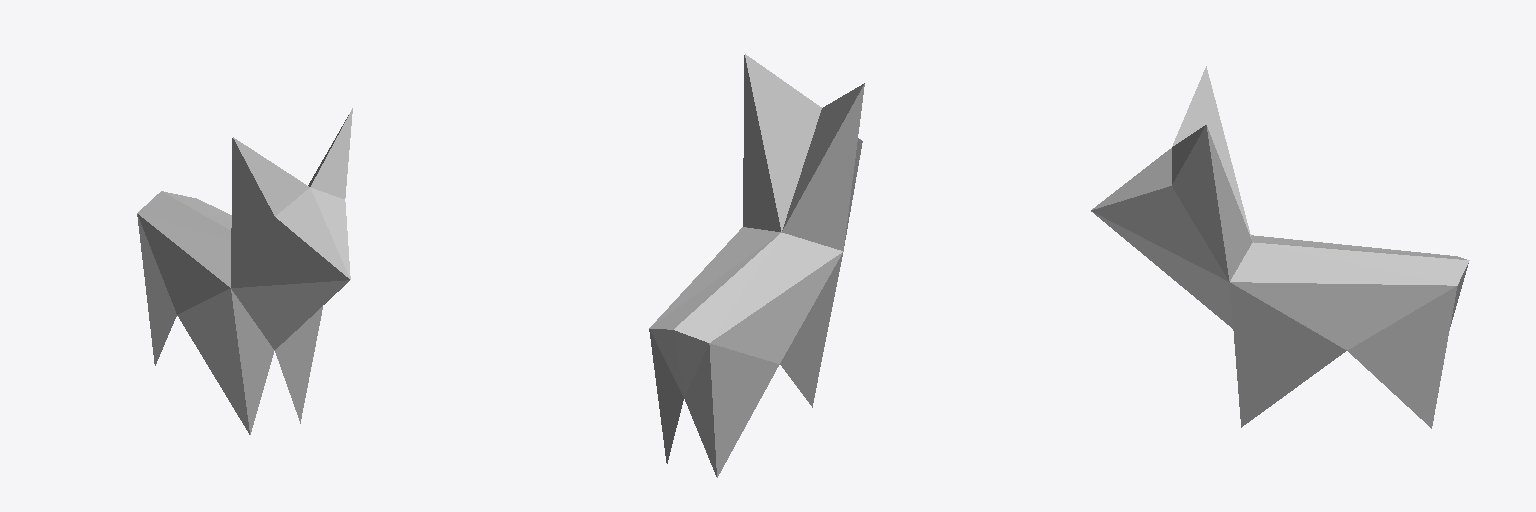
The model's file is lisek.obj.
The picture shows the model from 3 angles: view 1: azimuth 30°, elevation 25°; view 2: azimuth 150°, elevation 25°; view 3: azimuth 270°, elevation 25°; orthographic projection.
Bounding box in the file's own units: 0.528 × 1.35 × 1.44.